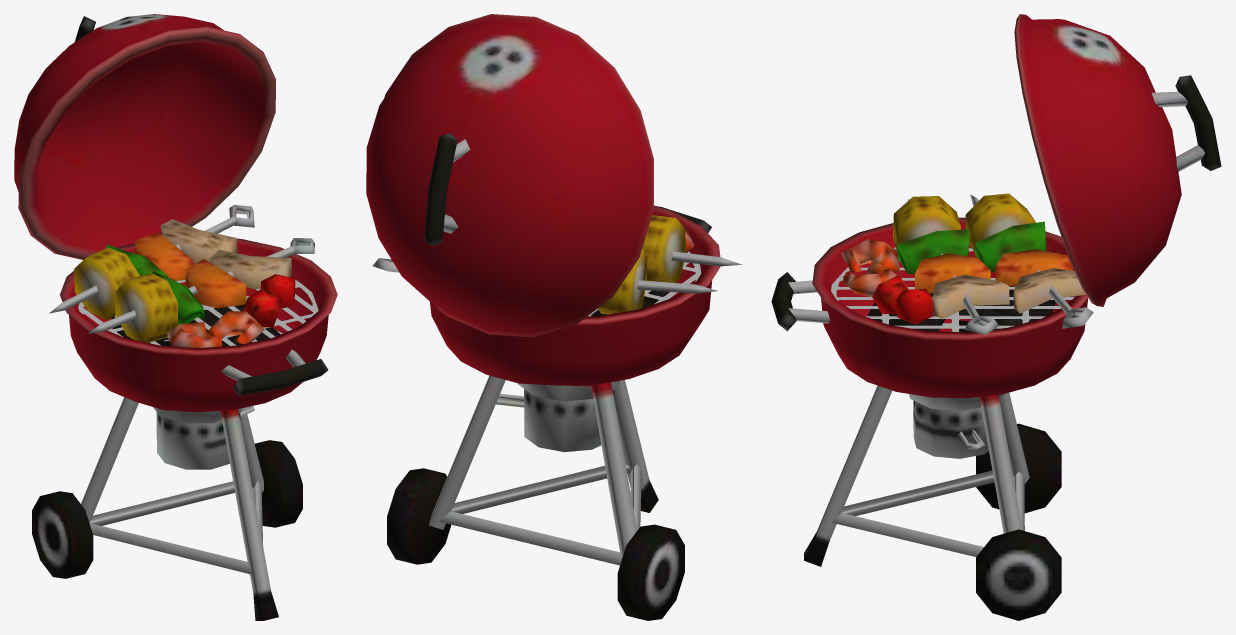
3 renders of one model, left to right at view 1: azimuth 30°, elevation 25°; view 2: azimuth 150°, elevation 25°; view 3: azimuth 270°, elevation 25°, orthographic. The views are drawn at different scales.
Size of the model in its own units: 7 by 12.66 by 9.64.
Materials: 2 (2 with a texture image).
